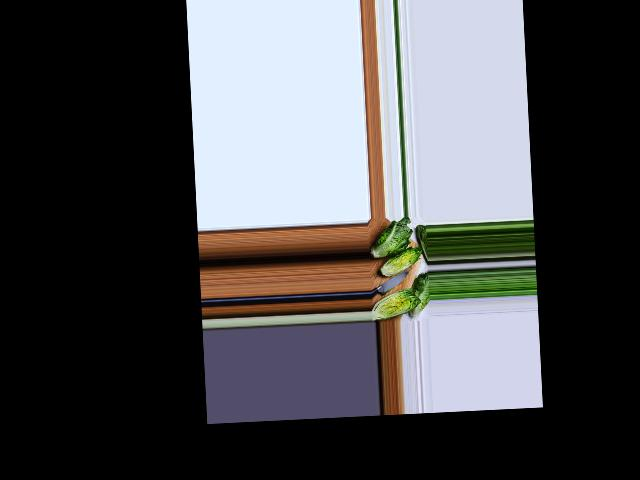lettuce: (407, 273, 428, 316)
